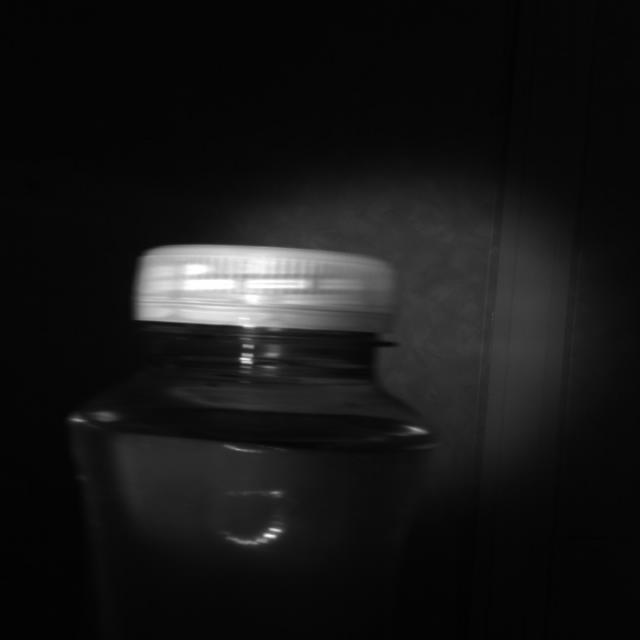Good: (132, 240, 404, 344)
